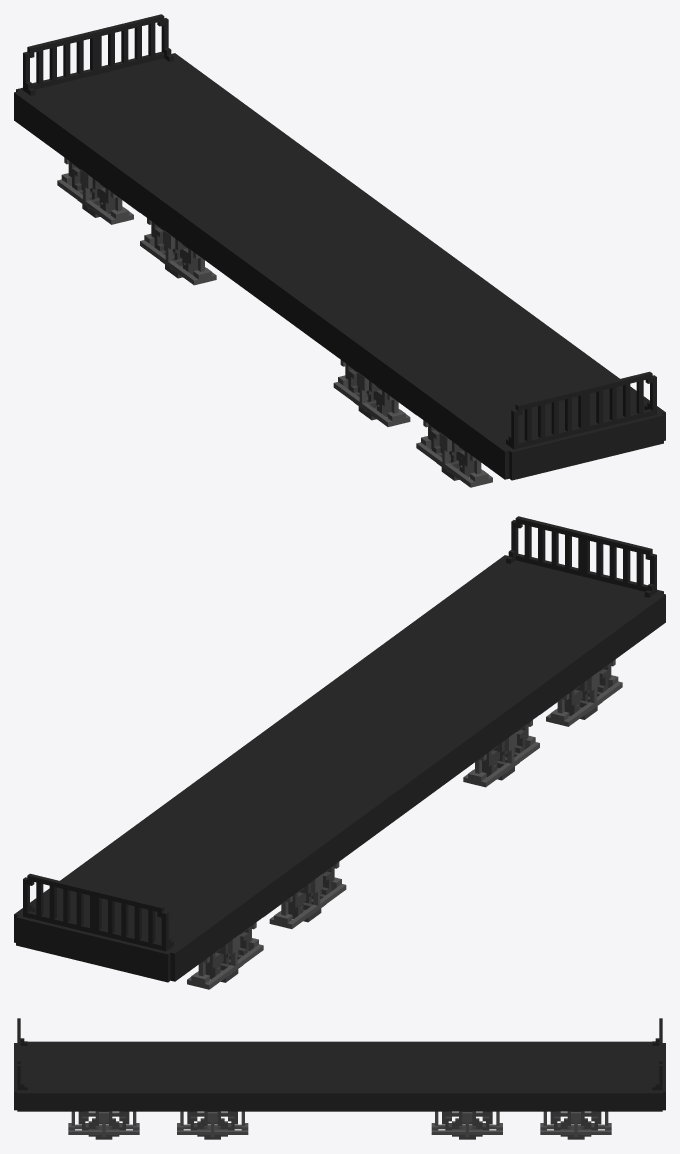
The model's file is Railway_ carriage_3.0.obj.
3 views of the same model, one above another, from view 1: azimuth 30°, elevation 25°; view 2: azimuth 150°, elevation 25°; view 3: azimuth 270°, elevation 25° (orthographic). The views are drawn at different scales.
Size of the model in its own units: 3.6 by 2.5 by 19.2.
1 material, 1 textured.
